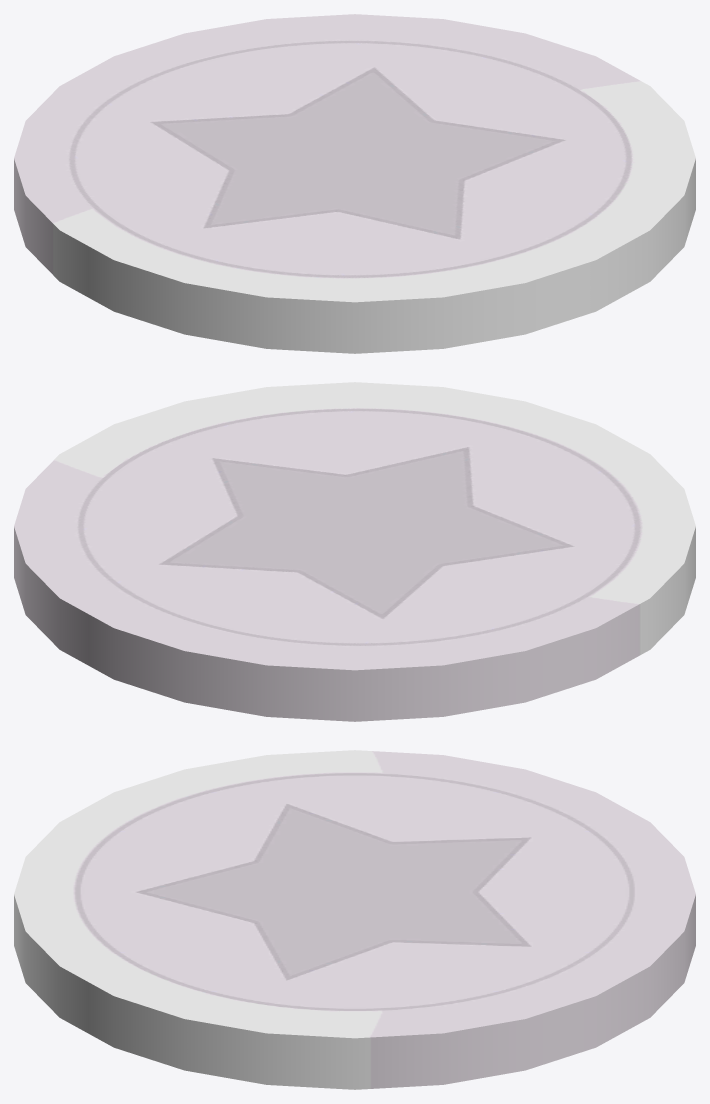
Rendered from bazi.glb.
3 views of the same model, one above another, from view 1: azimuth 30°, elevation 25°; view 2: azimuth 150°, elevation 25°; view 3: azimuth 270°, elevation 25° (orthographic).
Parts seen in each view (by area): view 1: bazi; view 2: bazi; view 3: bazi.
Boxes of the visible parts, x1=… form: bazi: x1=14, y1=14, x2=695, y2=353; bazi: x1=14, y1=382, x2=695, y2=721; bazi: x1=14, y1=750, x2=695, y2=1089.
Size of the model in its own units: 1.2 by 0.1 by 1.2.
Materials: 1 (1 with a texture image).
